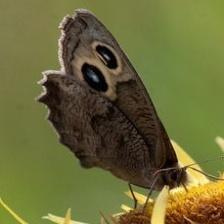butterfly: (38, 10, 186, 190)
